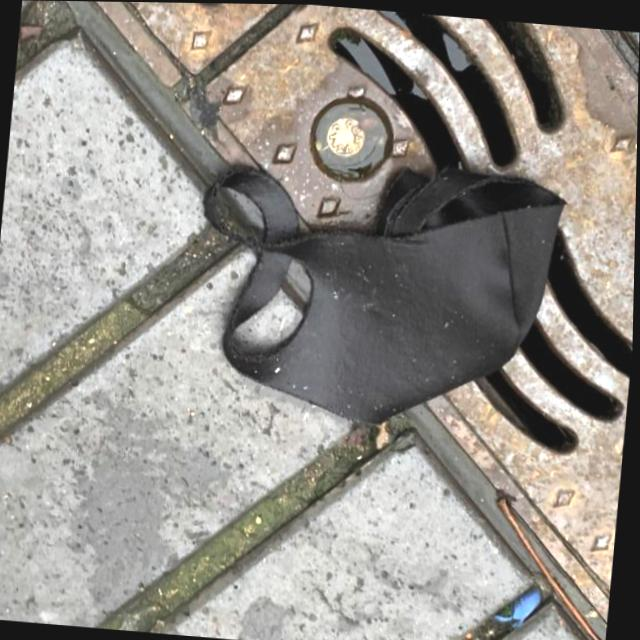Mask: (182, 142, 575, 440)
